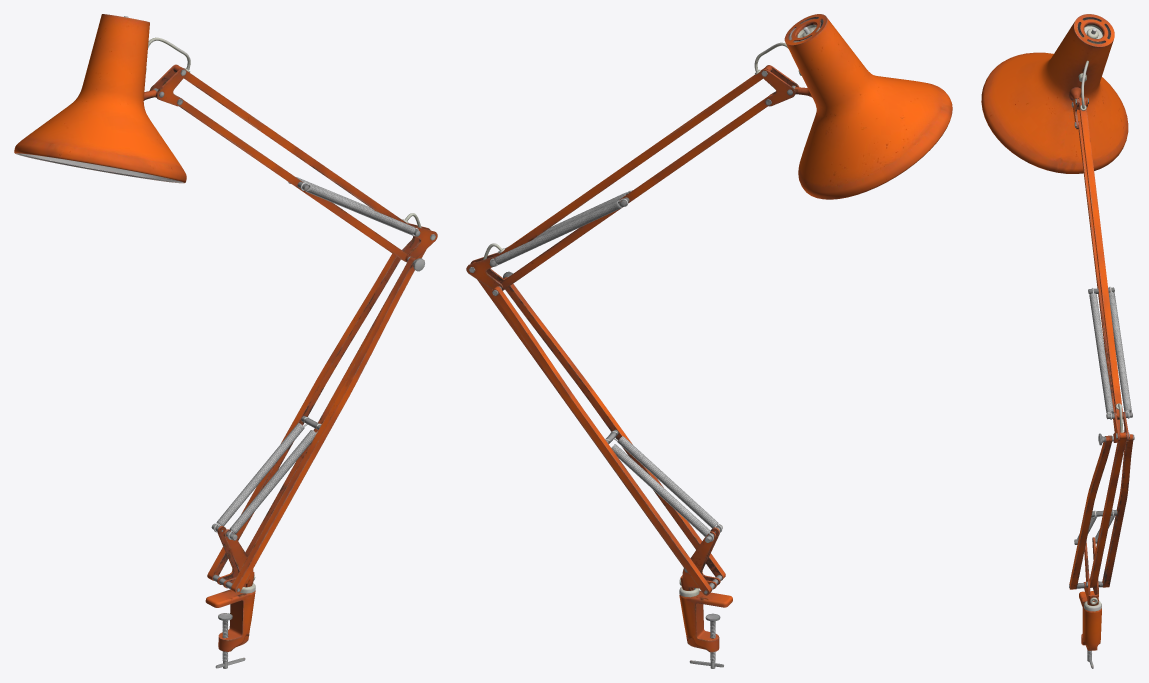
The model's file is desk_lamp.glb.
The picture shows the model from 3 angles, left to right: view 1: azimuth 30°, elevation 25°; view 2: azimuth 150°, elevation 25°; view 3: azimuth 270°, elevation 25°; orthographic projection. The views are drawn at different scales.
Parts seen in each view (by area): view 1: desk_lamp_arm_01; view 2: desk_lamp_arm_01; view 3: desk_lamp_arm_01.
Boxes of the visible parts, left/top/right/bottom form: desk_lamp_arm_01: left=14, top=14, right=437, bottom=668; desk_lamp_arm_01: left=466, top=14, right=952, bottom=668; desk_lamp_arm_01: left=981, top=14, right=1134, bottom=668.
Size of the model in its own units: 0.3067 by 0.45 by 0.1043.
Materials: 2 (2 with a texture image).
